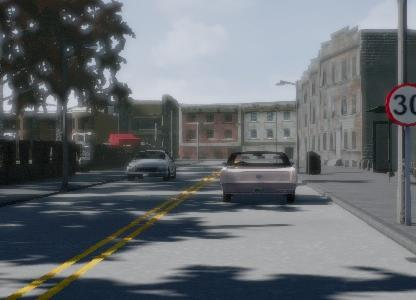Speed_30: (402, 74, 416, 127)
